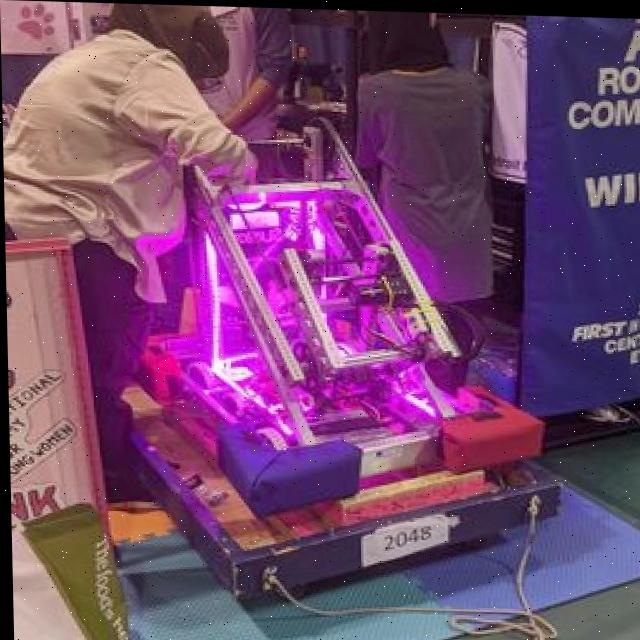robot: (118, 102, 563, 516)
